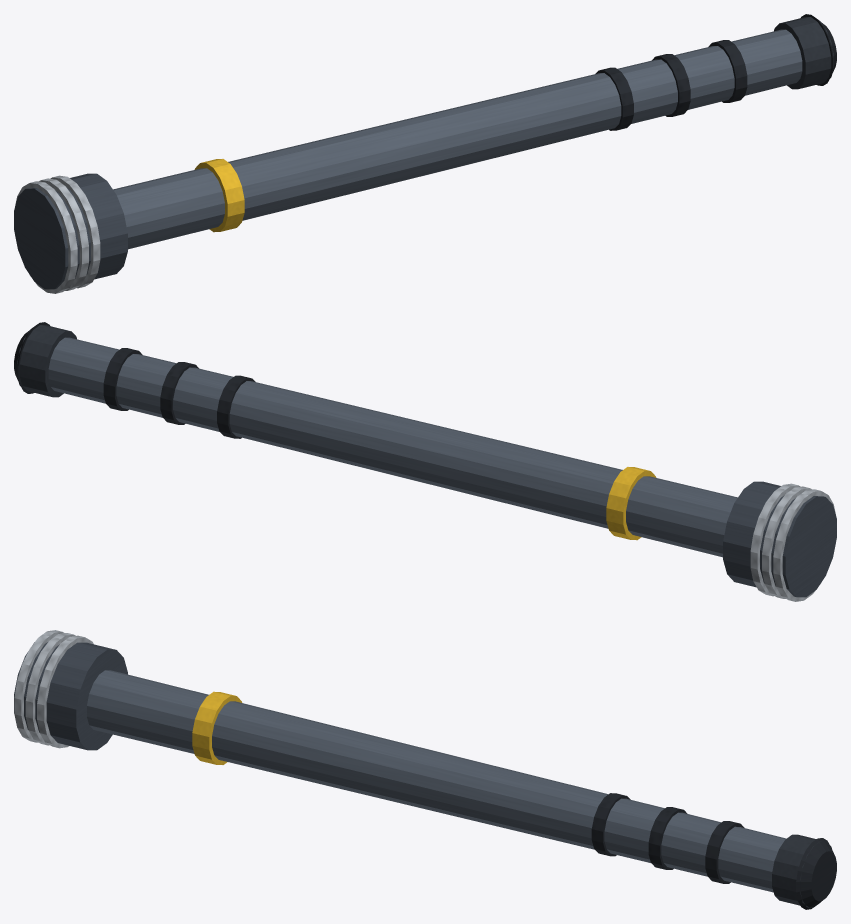
The model's file is barrel_long_v2.glb.
3 renders of one model, top to bottom at view 1: azimuth 30°, elevation 25°; view 2: azimuth 150°, elevation 25°; view 3: azimuth 330°, elevation 25°, orthographic.
Visible parts, largest first — view 1: barrel_long_mesh; view 2: barrel_long_mesh; view 3: barrel_long_mesh.
Boxes of the visible parts, x1,y1,x2,y2 form: barrel_long_mesh: (14, 14, 836, 293); barrel_long_mesh: (14, 322, 836, 601); barrel_long_mesh: (14, 630, 836, 909).
Size of the model in its own units: 0.2765 by 0.0344 by 0.0344.
Materials: 7 (7 with a texture image).
